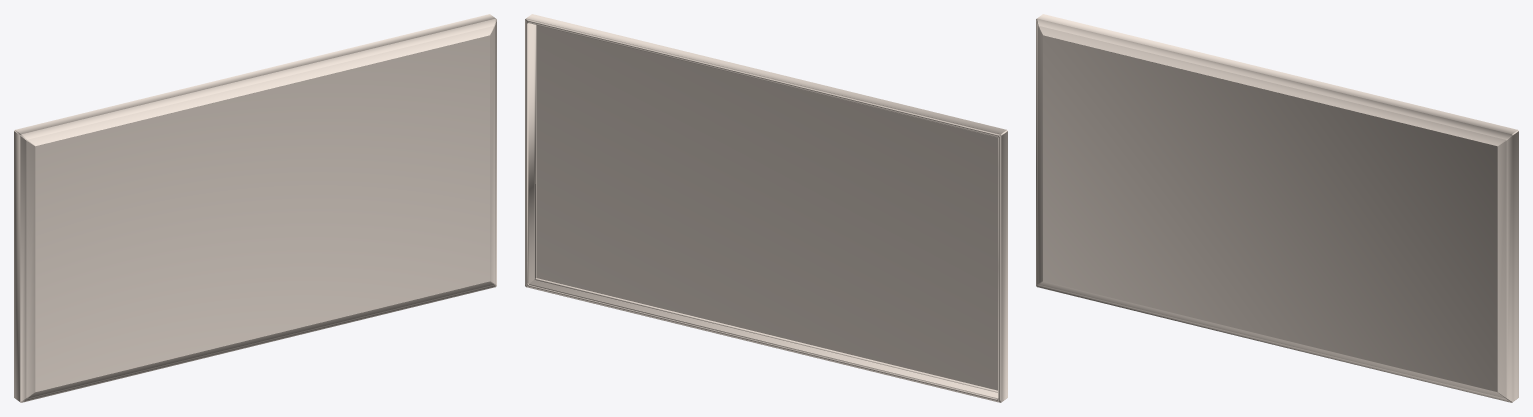
The model's file is Fp315_Cube_1727Desk_315_0_GeomSubset_0.obj.
3 views of the same model, side by side, from view 1: azimuth 30°, elevation 25°; view 2: azimuth 150°, elevation 25°; view 3: azimuth 330°, elevation 25° (orthographic).
Parts seen in each view (by area): view 1: Fp315_Cube_1727Desk_315_0_GeomSubset_0; view 2: Fp315_Cube_1727Desk_315_0_GeomSubset_0; view 3: Fp315_Cube_1727Desk_315_0_GeomSubset_0.
Part boxes in pixels (x1,y1,x2,y2): Fp315_Cube_1727Desk_315_0_GeomSubset_0: (14,14,496,402); Fp315_Cube_1727Desk_315_0_GeomSubset_0: (525,14,1007,402); Fp315_Cube_1727Desk_315_0_GeomSubset_0: (1036,14,1518,402).
Size of the model in its own units: 1.67 by 0.8968 by 0.0658.
